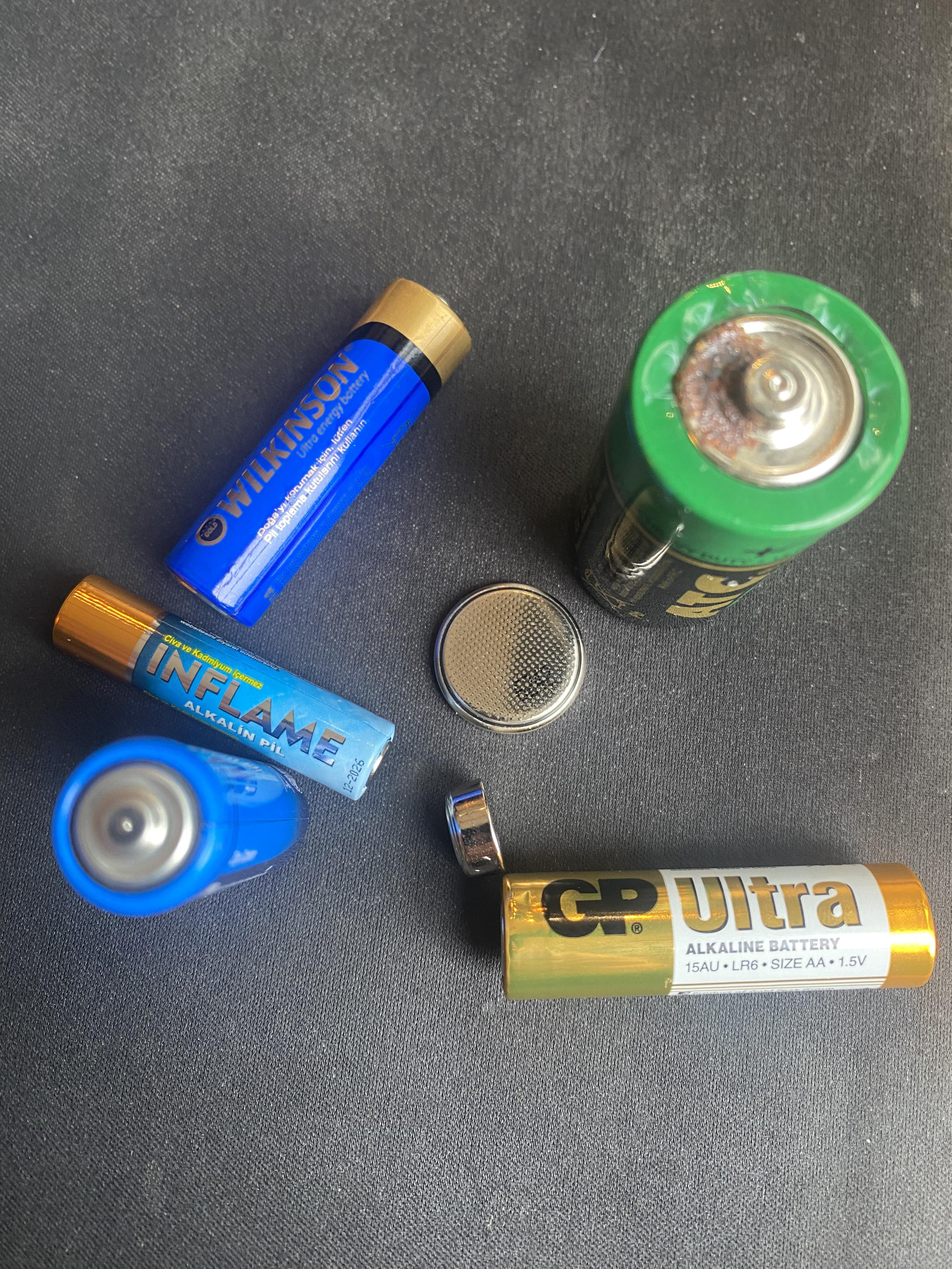AA: (162, 274, 473, 627), (500, 860, 938, 1000)
COIN: (409, 557, 595, 759)
